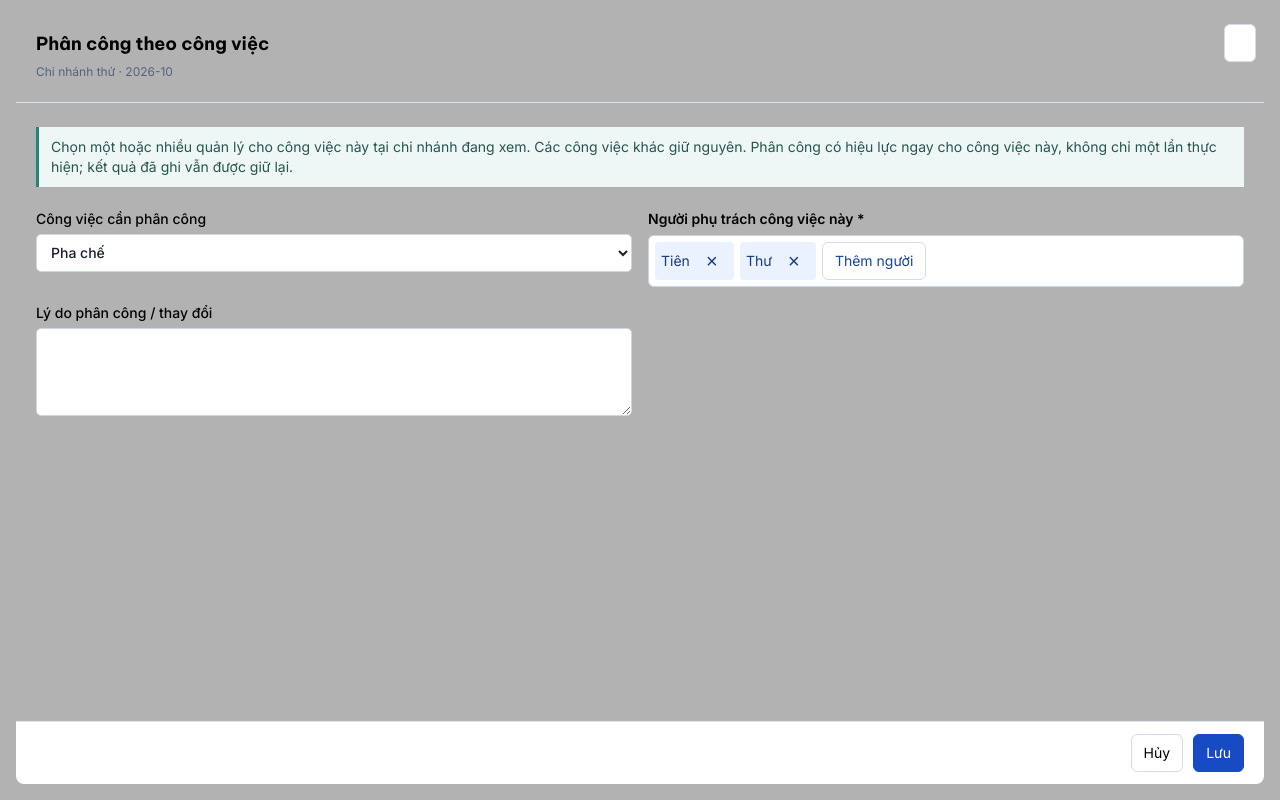
Test: per-work manager assignment › switching work resets selection to that work rather than copying the previous managers
Check: the button named "Bỏ Tiên" is shown, box [696,245,728,277]
Select "Vệ sinh" in the dropdown labelled "Công việc cần phân công" at (334, 253), box [36,234,632,272]
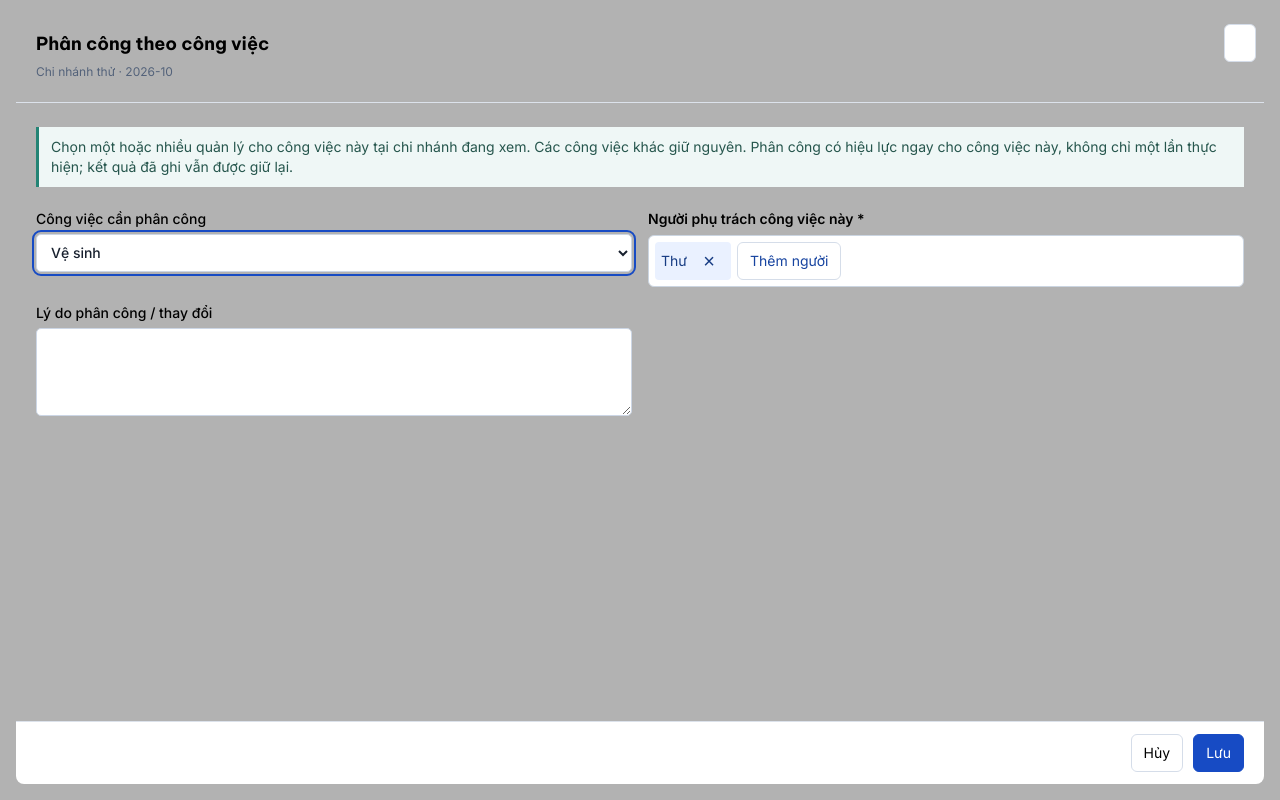
Check: the button named "Bỏ Thư" is shown, box [693,245,725,277]
